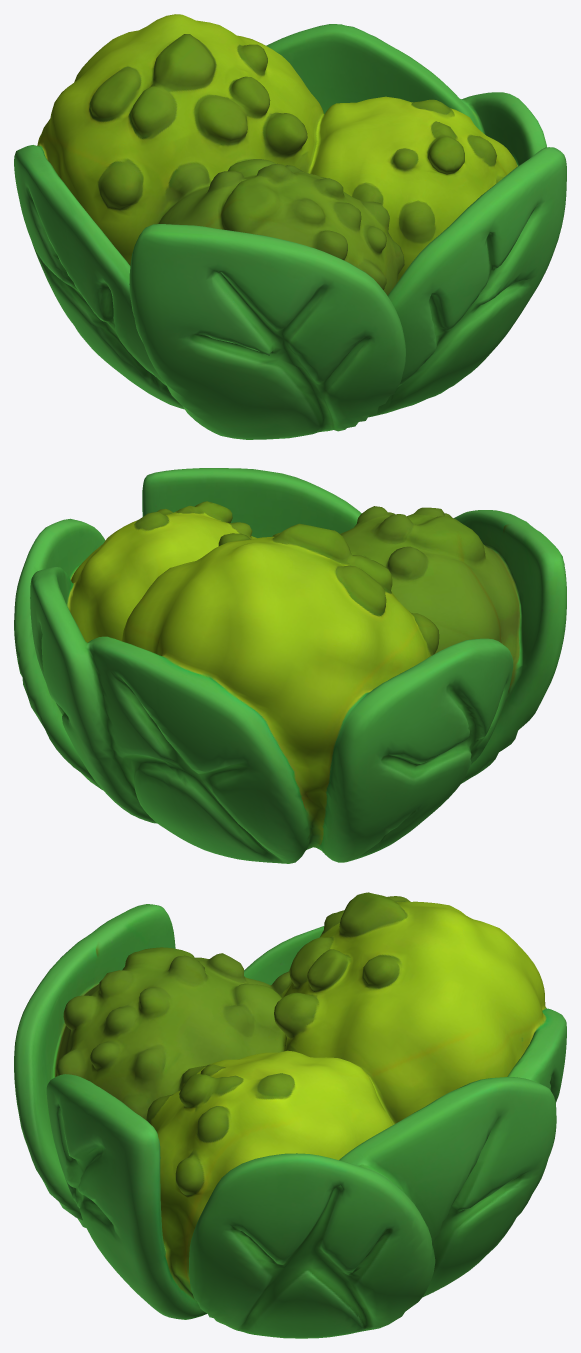
The model's file is tripo_convert_3db91262-5db9-4fd8-9ac7-d02958fee642.fbx.
The picture shows the model from 3 angles, top to bottom: view 1: azimuth 30°, elevation 25°; view 2: azimuth 150°, elevation 25°; view 3: azimuth 270°, elevation 25°; orthographic projection. The views are drawn at different scales.
Visible parts, largest first — view 1: tripo_node_3db91262; view 2: tripo_node_3db91262; view 3: tripo_node_3db91262.
Boxes of the visible parts, x1=… form: tripo_node_3db91262: x1=14, y1=14, x2=566, y2=439; tripo_node_3db91262: x1=14, y1=468, x2=566, y2=863; tripo_node_3db91262: x1=14, y1=892, x2=566, y2=1338.
Size of the model in its own units: 98.04 by 97.01 by 65.29.
Materials: 1 (1 with a texture image).
